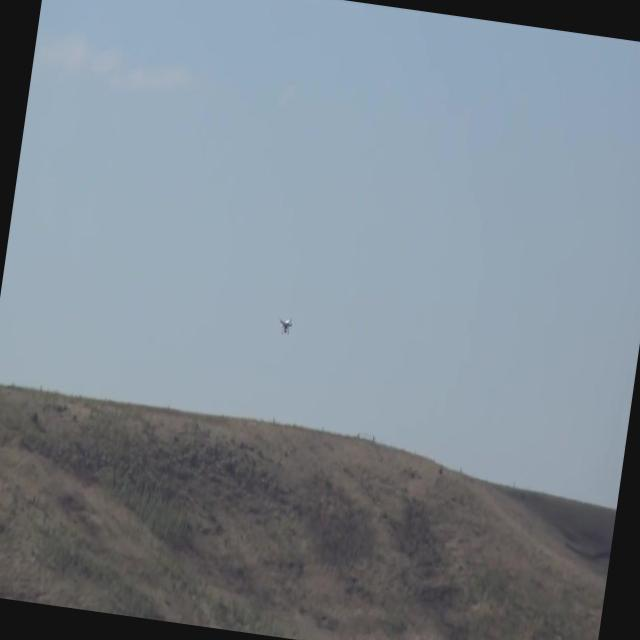drone: (275, 316, 295, 338)
